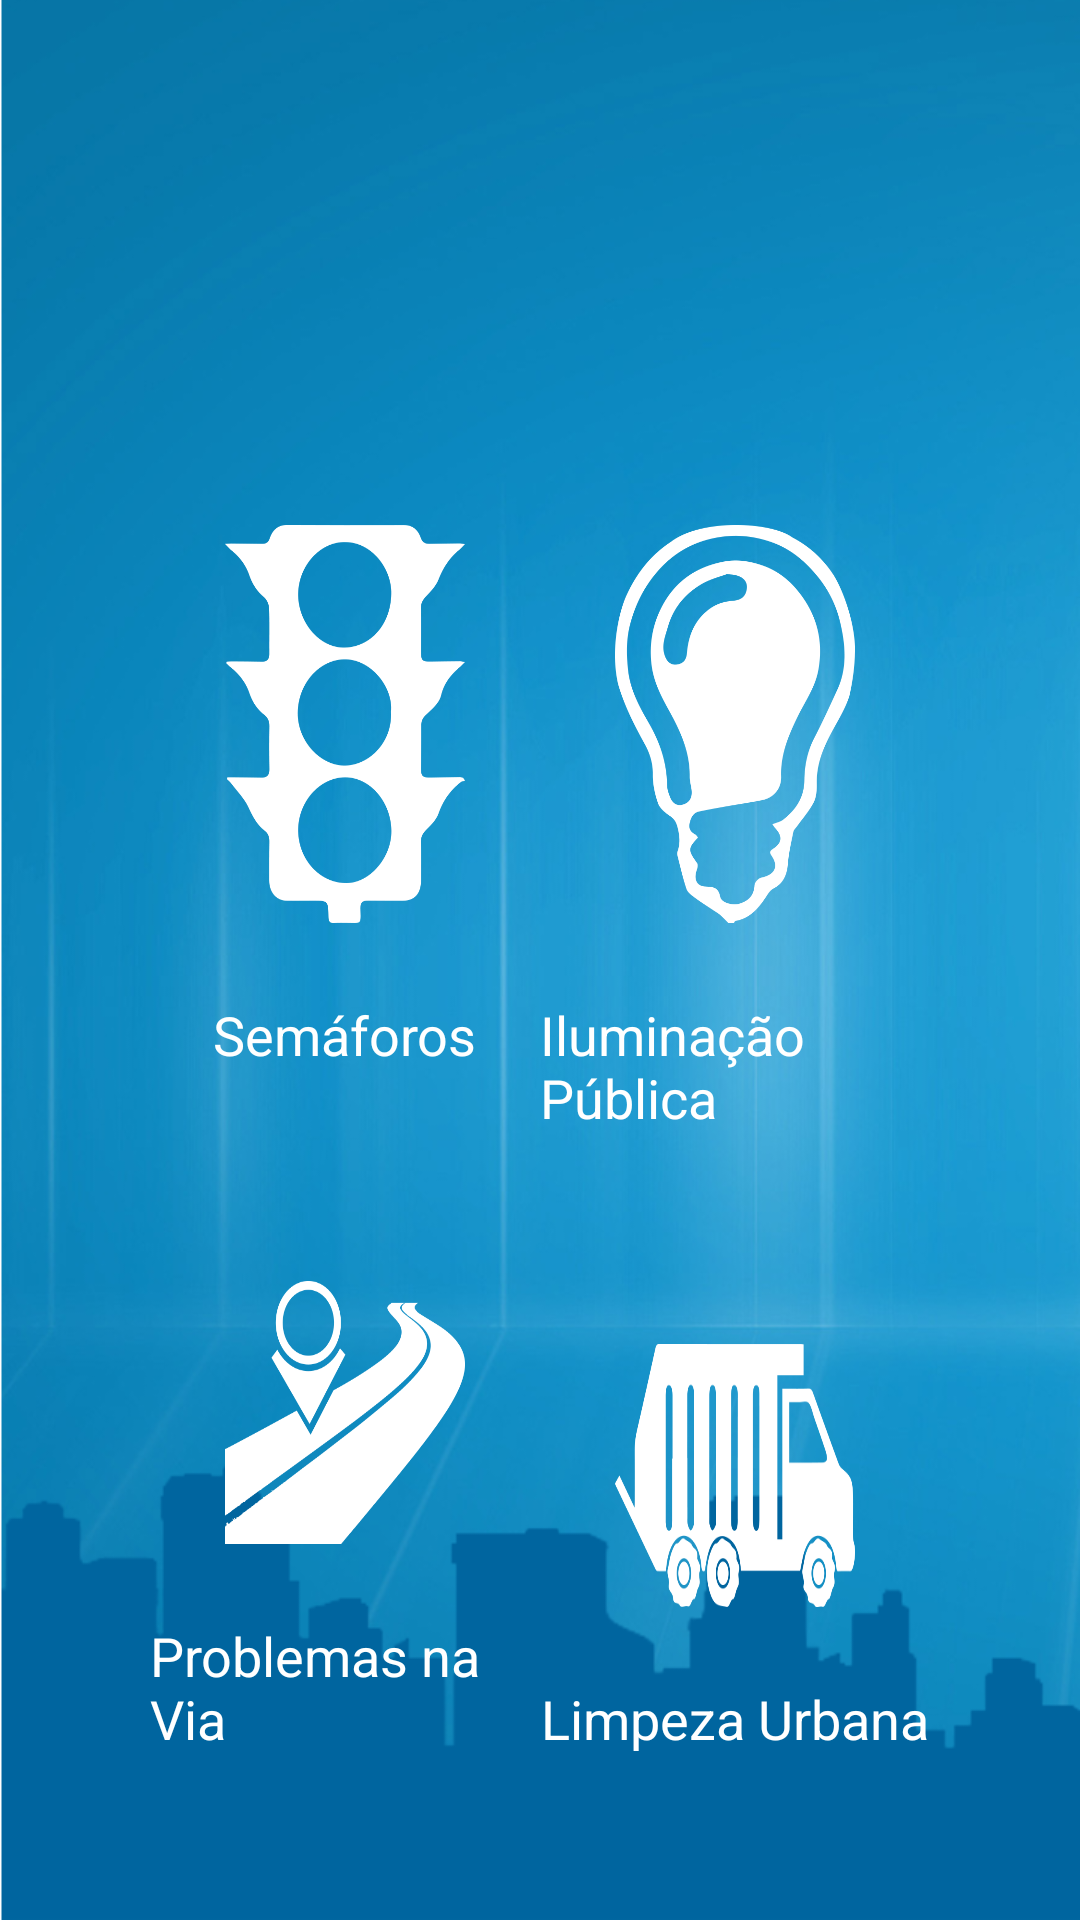

Icons on this 1080x1920 Android screen, each with the point to tap as point (x, y):
caminhao: point (735, 1475)
pista: point (345, 1412)
